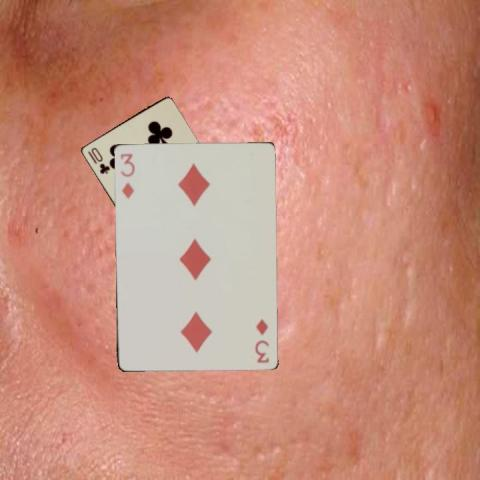10c: (84, 144, 111, 175)
3d: (117, 150, 136, 199), (252, 315, 270, 364)
